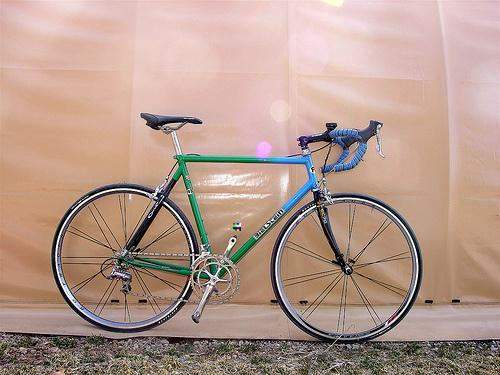car: (51, 109, 424, 345)
